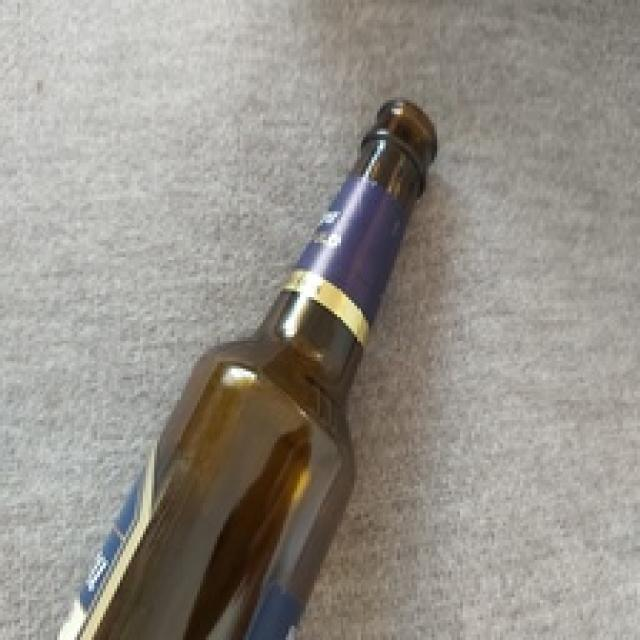Glass: (56, 100, 442, 640)
